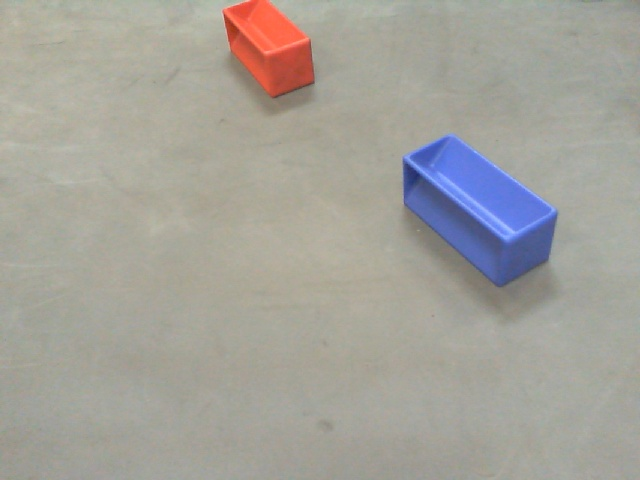BlueSample: (387, 128, 559, 286)
RedSample: (220, 1, 318, 101)
